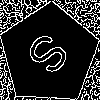S: (24, 29, 79, 85)
